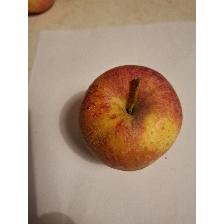Apfel: (78, 62, 184, 174)
